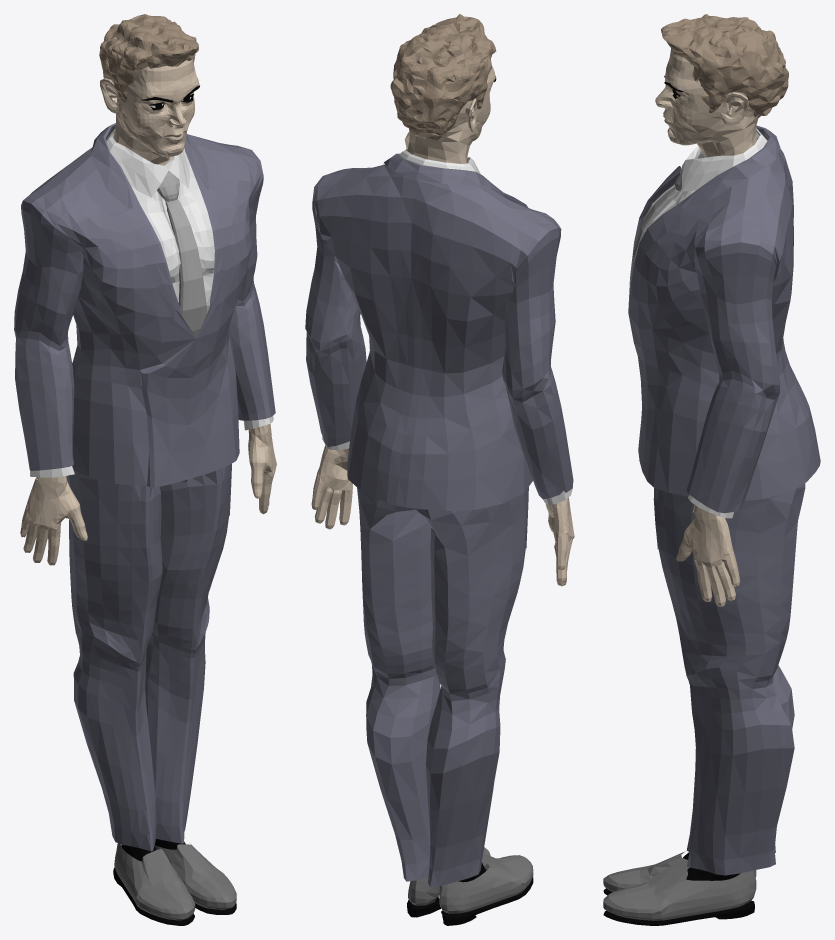
Rendered from sweethome3d-katorlegaz-male.glb.
3 views of the same model, side by side, from view 1: azimuth 30°, elevation 25°; view 2: azimuth 150°, elevation 25°; view 3: azimuth 270°, elevation 25° (orthographic). The views are drawn at different scales.
Parts seen in each view (by area): view 1: male_male_suit, male_male_skin, male_male_shirt, male_male_shoe_leather, male_male_hair_Chris, male_male_tie, male, male_male_shadeless_black; view 2: male_male_suit, male_male_hair_Chris, male_male_skin, male_male_shoe_leather, male, male_male_shirt; view 3: male_male_suit, male_male_skin, male_male_hair_Chris, male_male_shoe_leather, male_male_shirt, male, male_male_tie, male_male_shadeless_black.
Boxes of the visible parts, x1,y1,x2,y2 form: male_male_suit: (14,123,275,851); male_male_skin: (20,59,276,565); male_male_shirt: (30,129,273,477); male_male_shoe_leather: (114,843,236,920); male_male_hair_Chris: (99,14,198,103); male_male_tie: (157,171,207,338); male: (113,867,236,925); male_male_shadeless_black: (121,85,199,861); male_male_suit: (305,153,573,887); male_male_hair_Chris: (390,14,496,140); male_male_skin: (311,66,574,586); male_male_shoe_leather: (408,847,533,913); male: (407,877,533,925); male_male_shirt: (322,150,572,504); male_male_suit: (628,125,820,875); male_male_skin: (655,48,758,606); male_male_hair_Chris: (661,14,788,117); male_male_shoe_leather: (603,851,756,920); male_male_shirt: (643,128,767,518); male: (603,888,754,925); male_male_tie: (630,169,683,284); male_male_shadeless_black: (664,75,740,880).
Size of the model in its own units: 3.7 by 12.25 by 2.74.
